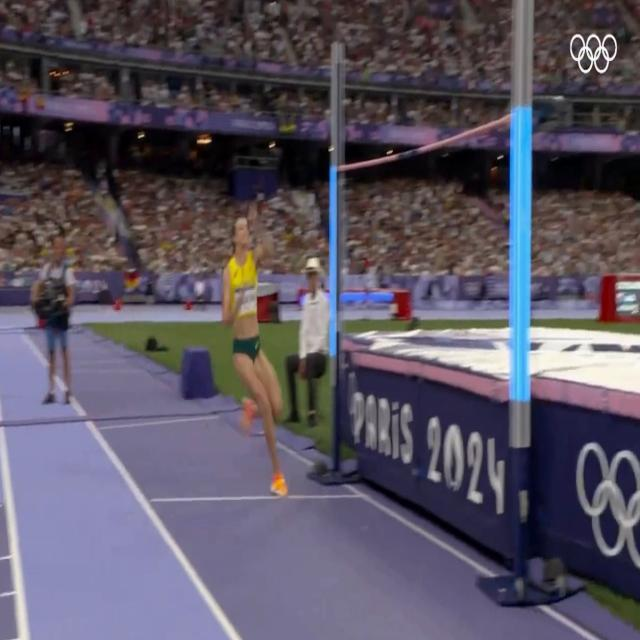jump: (222, 208, 294, 496)
